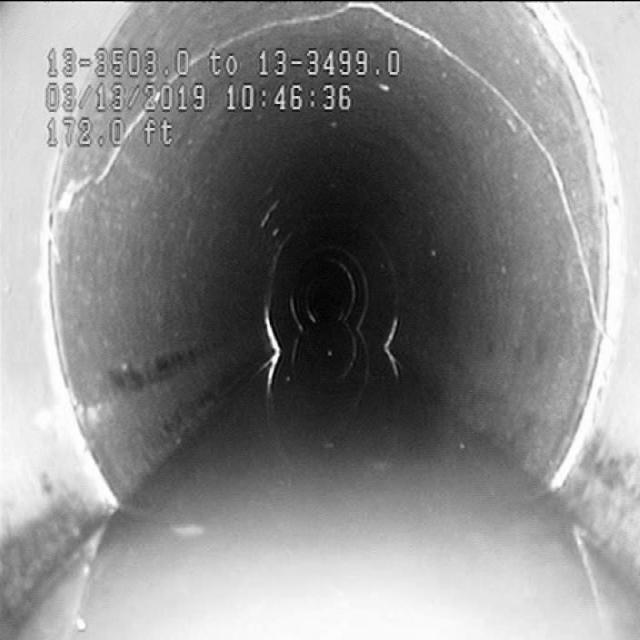Crack: (493, 46, 591, 328), (358, 2, 478, 60)
